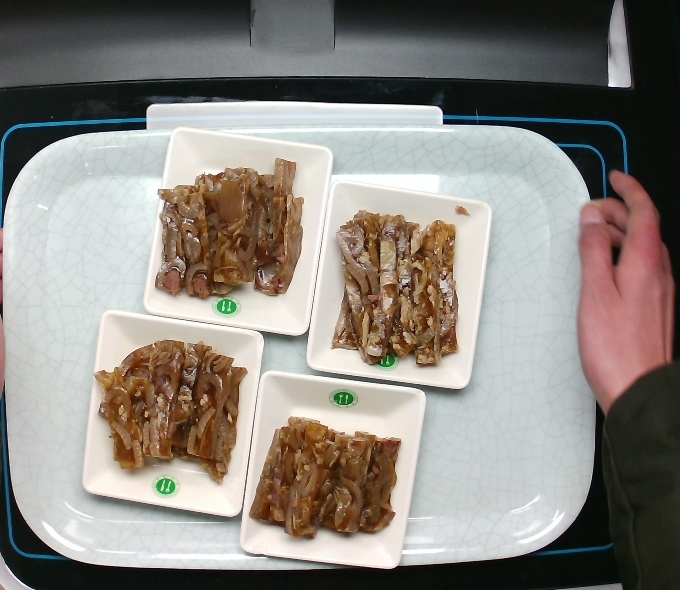wcq-DongZhuPi: (156, 154, 317, 303), (98, 333, 245, 486), (245, 413, 403, 547), (330, 207, 458, 369)
